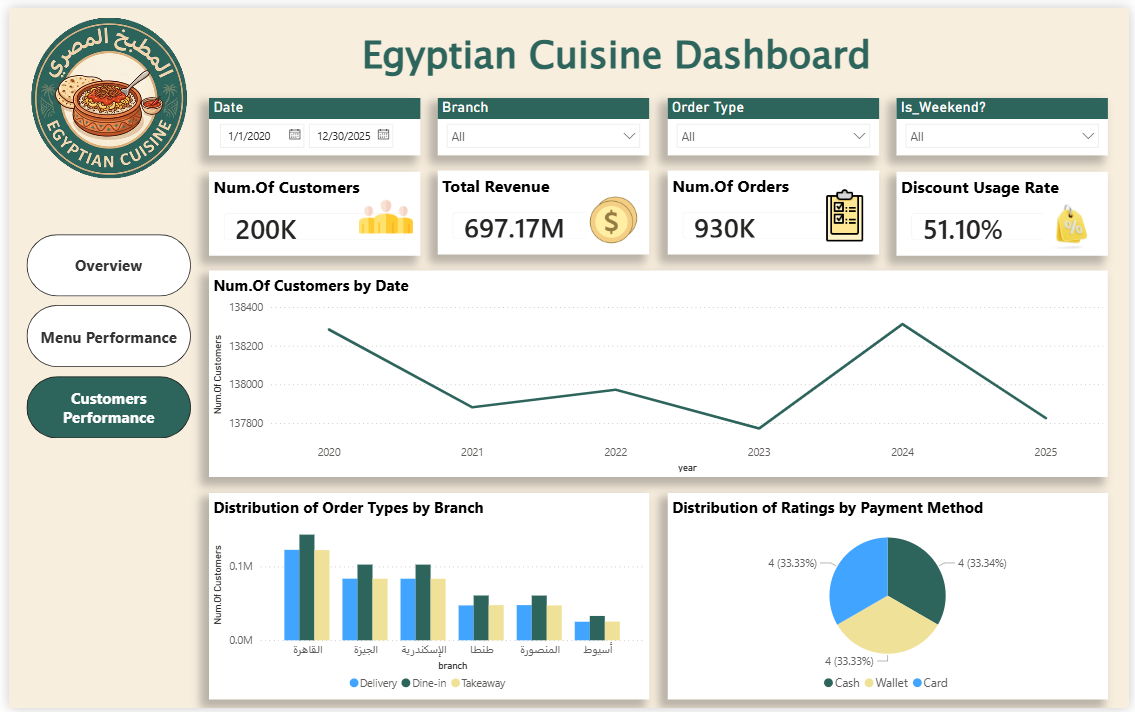

This screenshot's page, from the dashboard's own definition file:
{"tool":"powerbi","page":{"name":"Customers Performance","canvas":[1280,800],"ordinal":2},"visuals":[{"type":"image","box":[0,0,229.2,204.5],"z":0},{"type":"pageNavigator","box":[20,258.6,188.6,235.7],"z":1000},{"type":"textbox","box":[341.4,17.1,705.7,75.7],"z":2000},{"type":"slicer","title":"Date","fields":{"Values":["restaurant.order_date"]},"box":[228.6,102.9,241.4,65.7],"z":3000},{"type":"slicer","title":"Branch","fields":{"Values":["restaurant.branch"]},"box":[490,102.9,241.4,65.7],"z":4000},{"type":"slicer","title":"Order Type","fields":{"Values":["restaurant.order_type"]},"box":[752.9,102.9,241.4,65.7],"z":5000},{"type":"cardVisual","fields":{"Data":["Measure.Total Sales"]},"box":[490,185.7,241.4,95.7],"z":6000,"group":"g3"},{"type":"cardVisual","fields":{"Data":["Measure.Discount Usage %"]},"box":[1014.3,186.7,241.4,95.7],"z":6000},{"type":"group","id":"g1","title":"Group 1","box":[752.9,185.7,241.4,100],"z":7000},{"type":"cardVisual","fields":{"Data":["Measure.Num.Of Customers"]},"box":[228.6,186.7,241.4,95.7],"z":7000,"group":"g2"},{"type":"cardVisual","fields":{"Data":["Count(restaurant.order_id)"]},"box":[752.9,185.7,241.4,95.7],"z":8000,"group":"g1"},{"type":"group","id":"g2","title":"Group 2","box":[228.6,186.7,241.4,95.7],"z":8000},{"type":"image","box":[660,209,61.4,67.1],"z":9000,"group":"g3"},{"type":"image","box":[1177.1,220,71.4,57.1],"z":9000},{"type":"slicer","title":"Is_Weekend?","fields":{"Values":["restaurant.weekend_flag"]},"box":[1014.3,102.9,241.4,65.7],"z":10000},{"type":"image","box":[924.3,188.6,61.4,97.1],"z":10001,"group":"g1"},{"type":"image","box":[400,205.3,61.4,62.9],"z":10001,"group":"g2"},{"type":"group","id":"g3","title":"Group 3","box":[490,185.7,241.4,95.7],"z":11000},{"type":"lineChart","fields":{"Y":["Measure.Num.Of Customers"],"Category":["restaurant.year","restaurant.month_name","restaurant.day_name"]},"box":[228.6,300,1027.1,235.7],"z":12000},{"type":"clusteredColumnChart","fields":{"Category":["restaurant.branch"],"Y":["Measure.Num.Of Customers"],"Series":["restaurant.order_type"]},"box":[228.6,554.3,502.9,235.7],"z":13000},{"type":"pieChart","fields":{"Category":["restaurant.payment_method"],"Y":["Measure.Avg.Rating"]},"box":[752.9,554.3,502.9,235.7],"z":15000}]}

Visuals, with their boxes in screenshot pixels (x1, y1, x2, y2), scaled from the page's 1280x800 canvas onto the 1135x712 screenshot:
image: [0,0,203,182]
pageNavigator: [18,230,185,440]
textbox: [303,15,928,83]
"Date" slicer: [203,92,417,150]
"Branch" slicer: [434,92,649,150]
"Order Type" slicer: [668,92,882,150]
cardVisual - Measure.Total Sales: [434,165,649,250]
cardVisual - Measure.Discount Usage %: [899,166,1113,251]
"Group 1" group: [668,165,882,254]
cardVisual - Measure.Num.Of Customers: [203,166,417,251]
cardVisual - Count(restaurant.order_id): [668,165,882,250]
"Group 2" group: [203,166,417,251]
image: [585,186,640,246]
image: [1044,196,1107,247]
"Is_Weekend?" slicer: [899,92,1113,150]
image: [820,168,874,254]
image: [355,183,409,239]
"Group 3" group: [434,165,649,250]
lineChart - Measure.Num.Of Customers x restaurant.year: [203,267,1113,477]
clusteredColumnChart - restaurant.branch x Measure.Num.Of Customers: [203,493,649,703]
pieChart - restaurant.payment_method x Measure.Avg.Rating: [668,493,1114,703]
